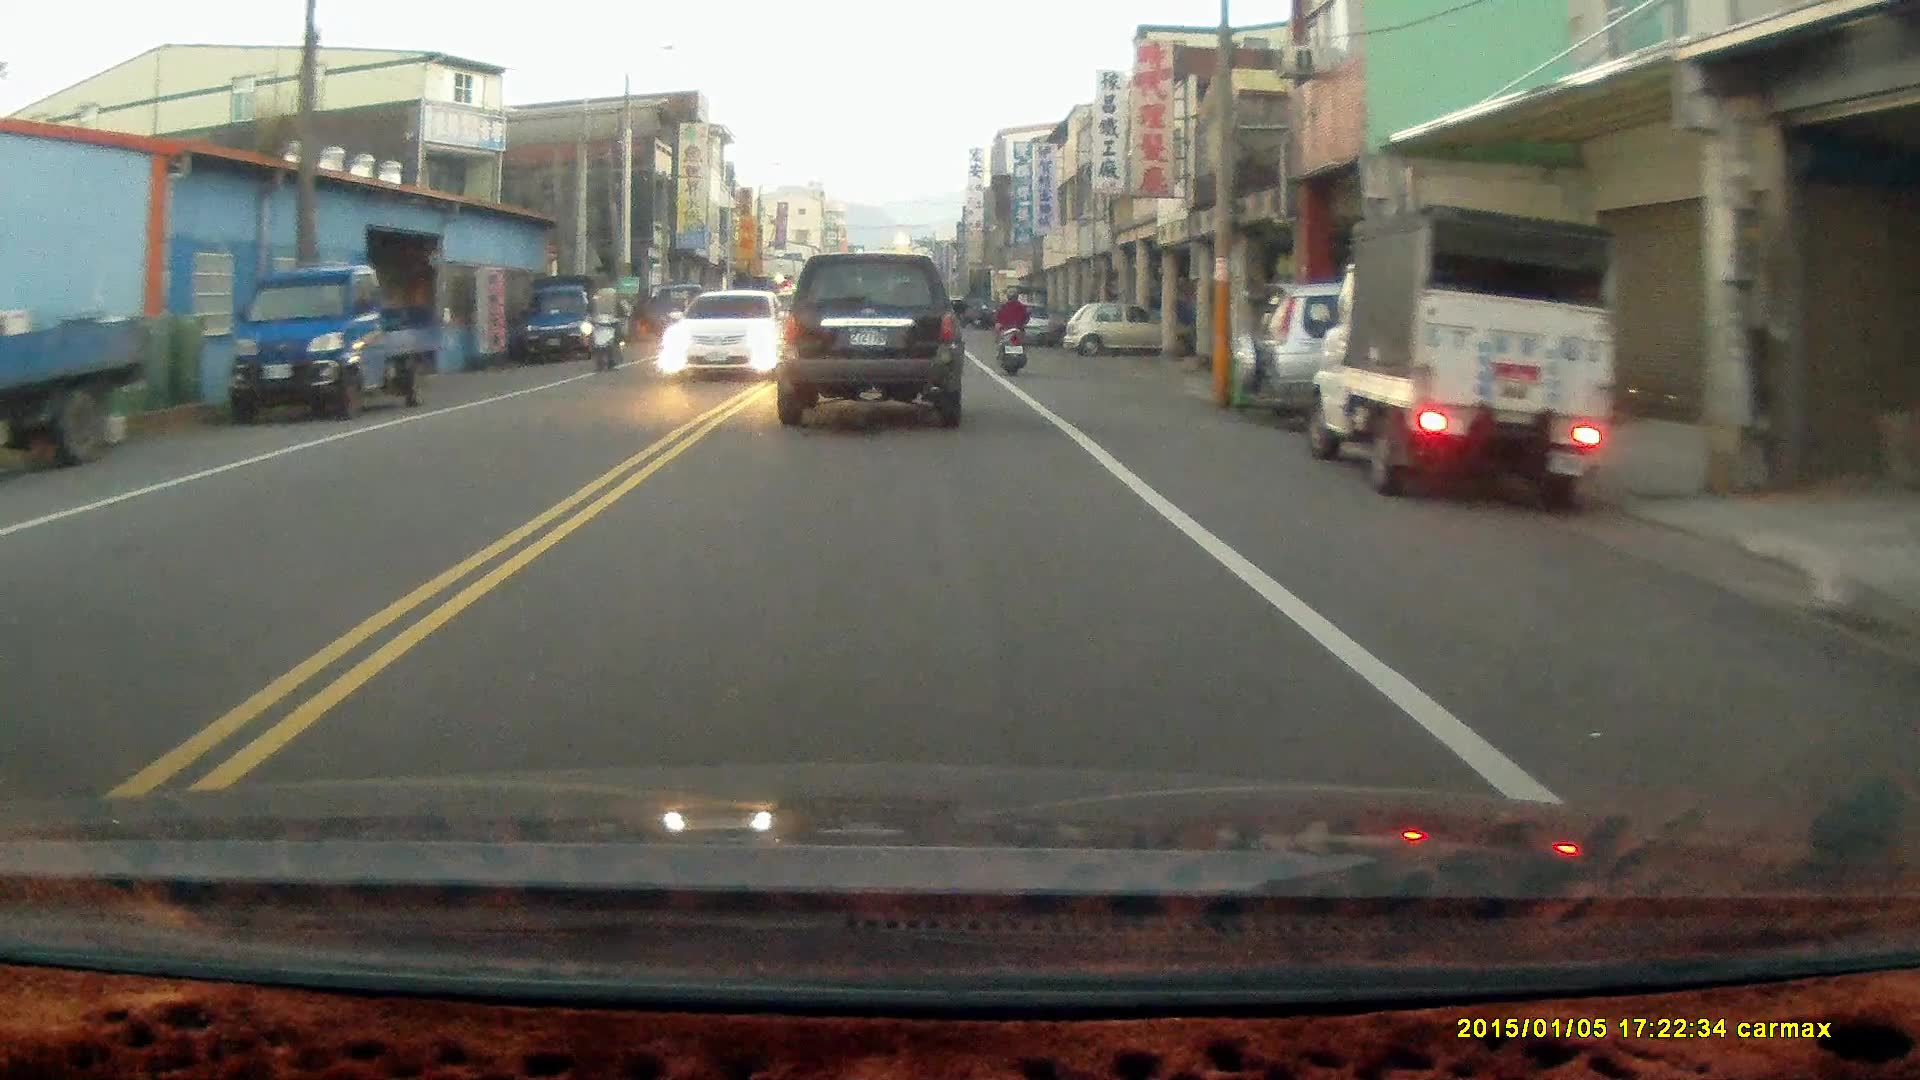rider: (584, 279, 625, 376), (992, 280, 1029, 376)
vehicle: (1311, 202, 1619, 523), (1230, 277, 1586, 431), (773, 254, 967, 431), (1, 265, 158, 480), (225, 270, 446, 423), (667, 290, 793, 384), (513, 276, 625, 364), (1067, 303, 1158, 358)
